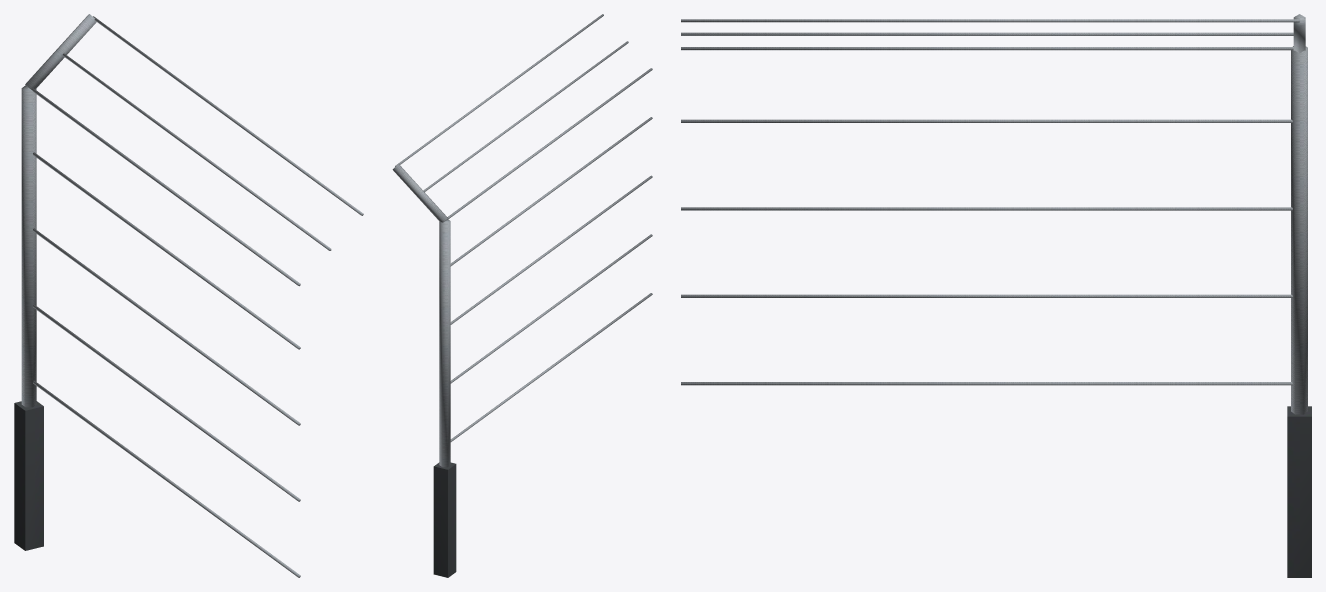
File: street-fence_far.glb
3 renders of one model, left to right at view 1: azimuth 30°, elevation 25°; view 2: azimuth 150°, elevation 25°; view 3: azimuth 270°, elevation 25°, orthographic. The views are drawn at different scales.
Visible parts, largest first — view 1: galvanised, dark-steel; view 2: galvanised, dark-steel; view 3: galvanised, dark-steel.
Part boxes in pixels (x1=…): galvanised: x1=21, y1=14, x2=363, y2=577; dark-steel: x1=14, y1=401, x2=43, y2=550; galvanised: x1=392, y1=14, x2=652, y2=467; dark-steel: x1=433, y1=462, x2=456, y2=577; galvanised: x1=681, y1=14, x2=1307, y2=414; dark-steel: x1=1287, y1=406, x2=1311, y2=577.
Size of the model in its own units: 0.6586 by 4.23 by 4.08.
2 materials, 2 textured.
